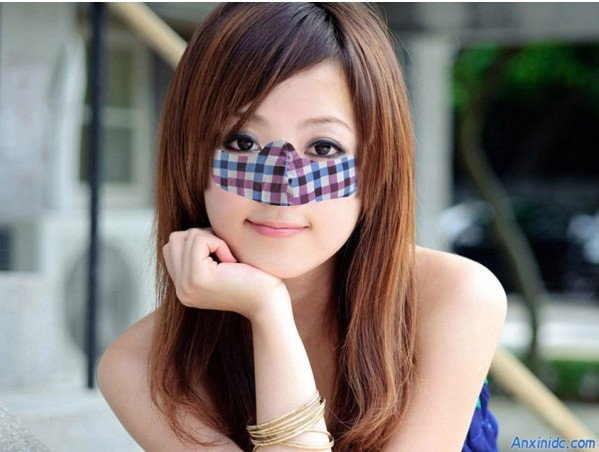face_mask: (204, 58, 362, 276)
